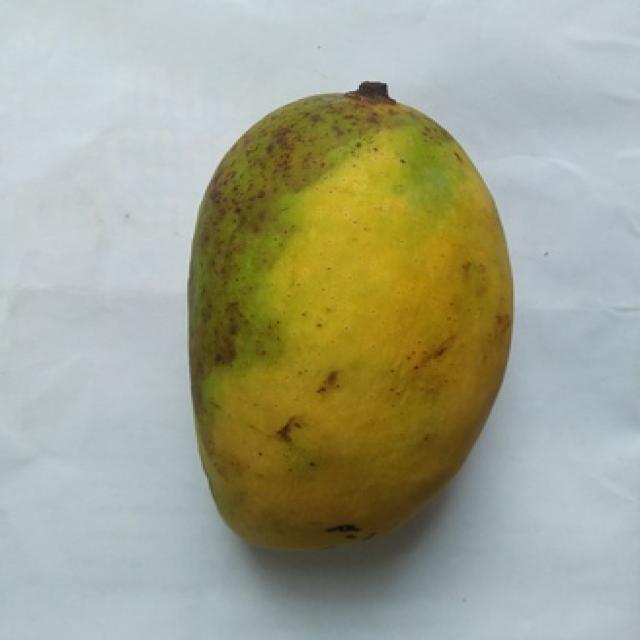Mango: (189, 85, 511, 547)
